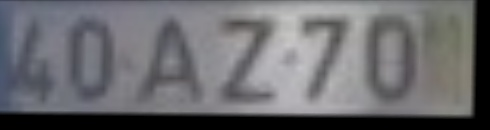0: (364, 12, 426, 107), (64, 12, 120, 106)
4: (14, 16, 63, 110)
7: (298, 17, 359, 109)
A: (124, 13, 214, 110)
Z: (217, 17, 288, 106)
